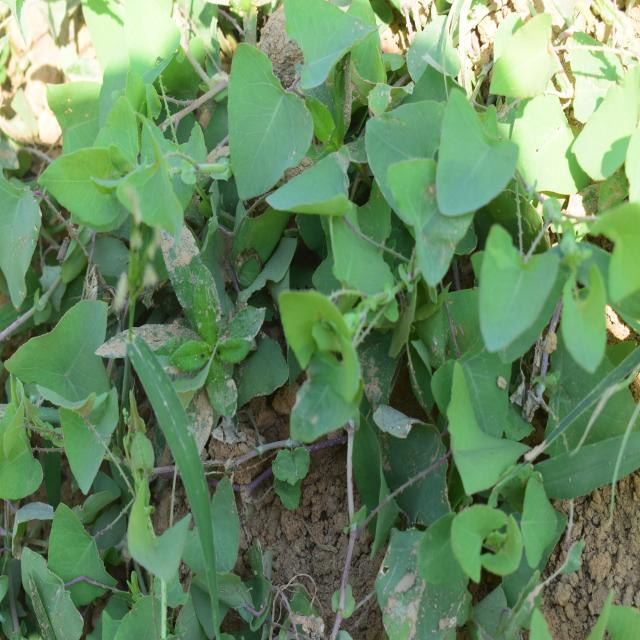Asiatic_Smartweed: (236, 12, 463, 386), (446, 65, 640, 371), (39, 36, 193, 226)
